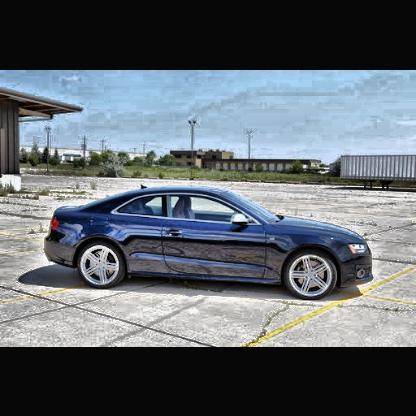Audi S5 Coupe 2012: (22, 164, 394, 320)
